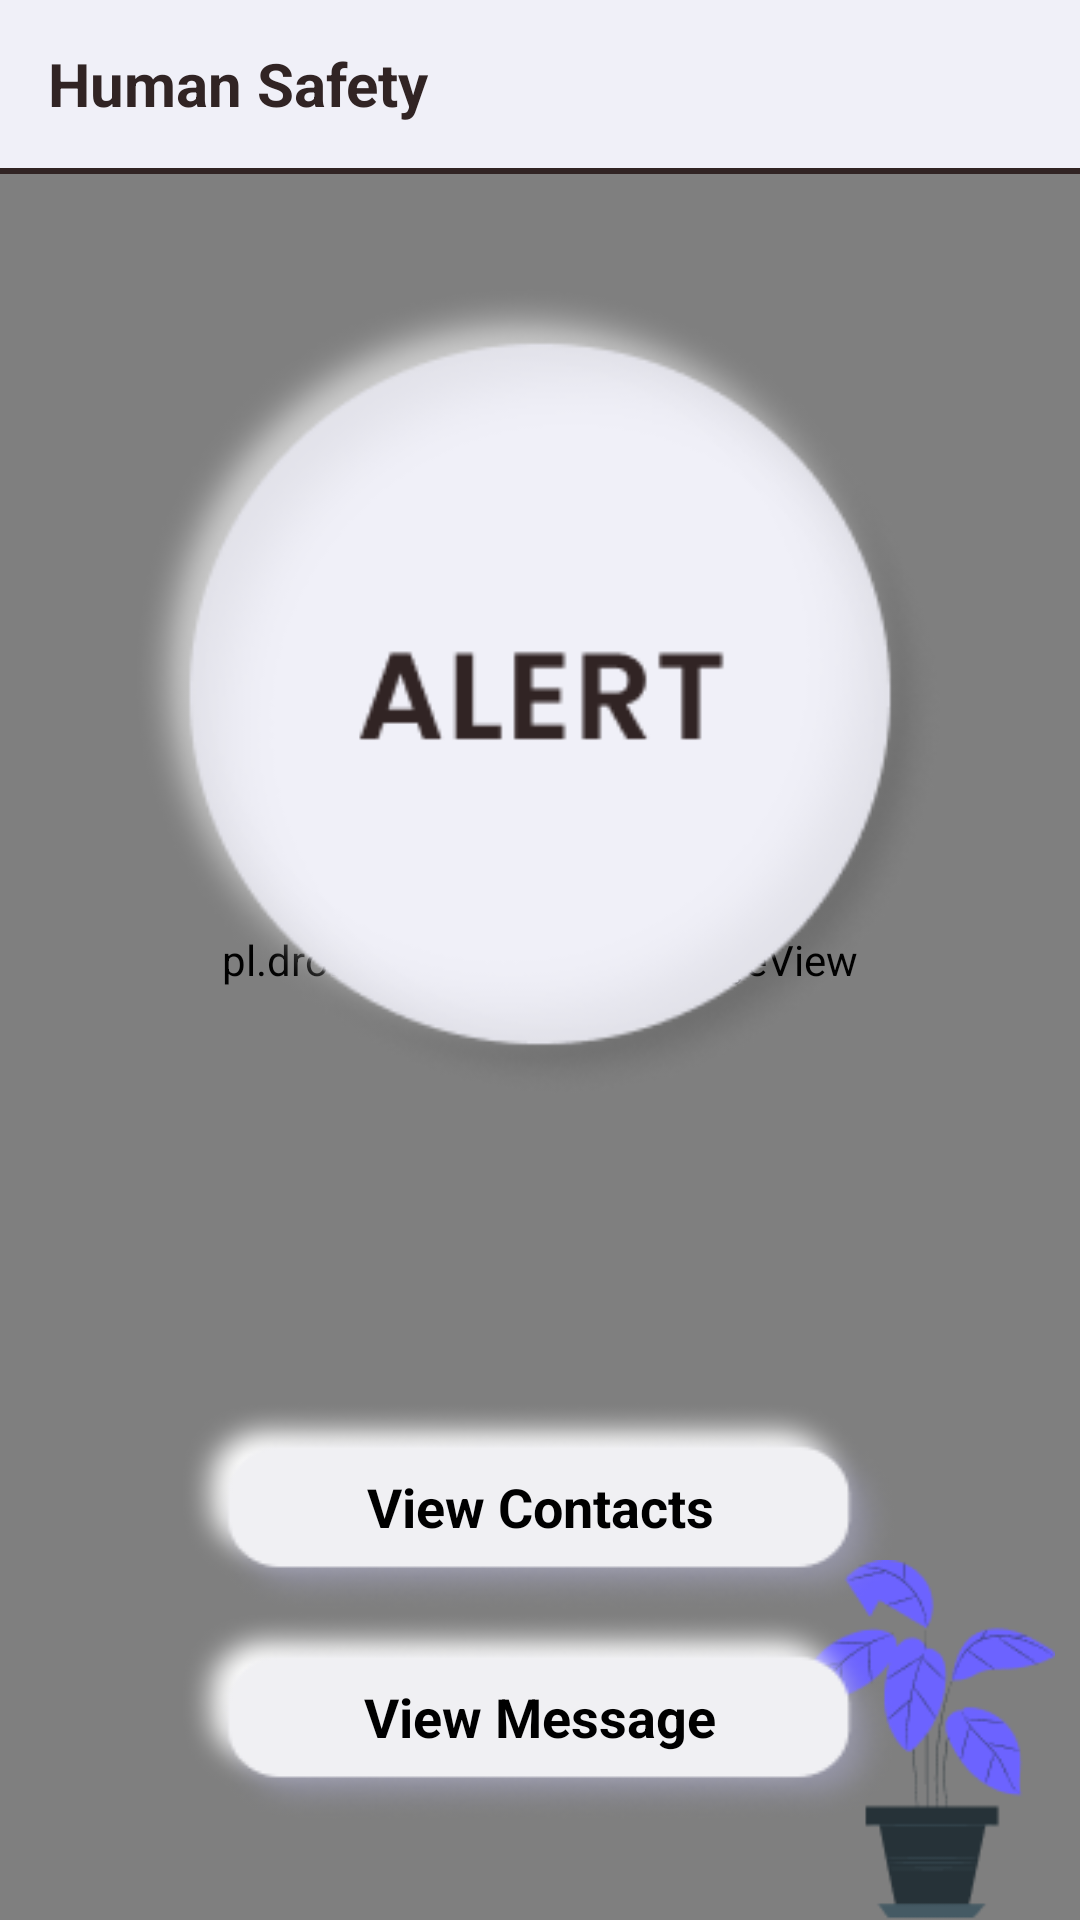

Point at icon controls on the screen. Image size 1080px×1920px, points as (x=x, y=y).
imggamla: (x=949, y=1739)
